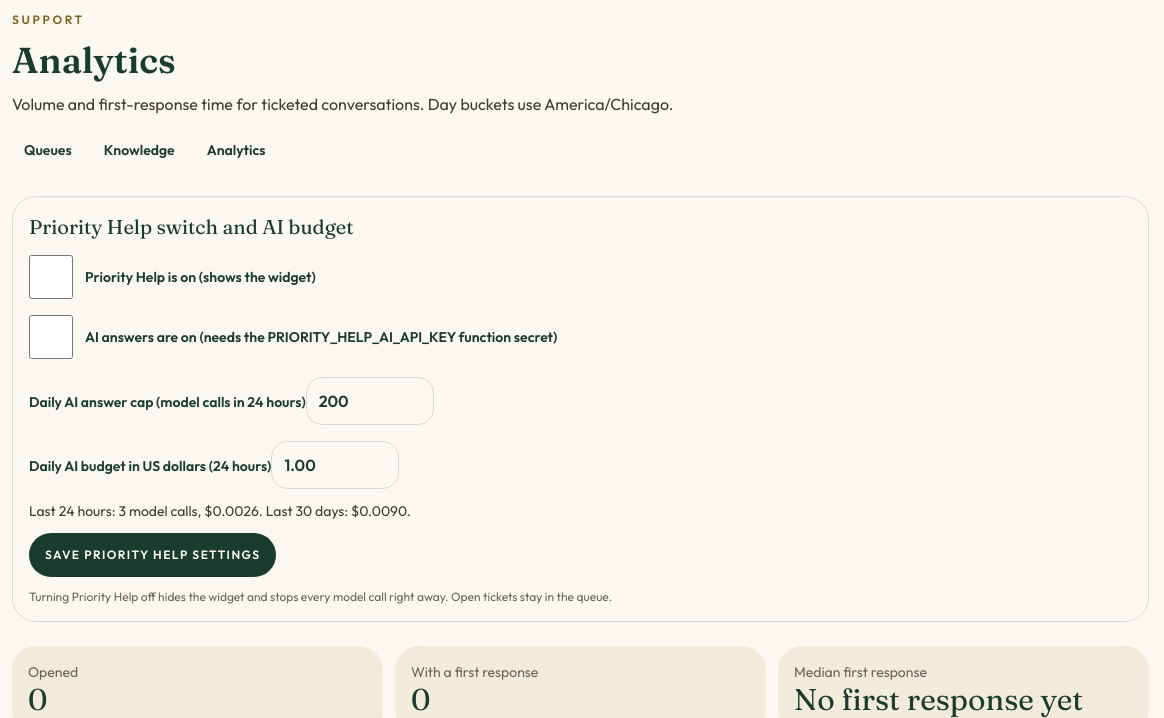
it: admin support pages › shows Priority Help off by default and saves the flags, cap, and dollar budget
Expected: the checkbox labelled "AI answers are on" is not checked, [29,315,73,359]
Expected: the text "3 model calls, $0.0026" is shown, [29,502,411,520]
Click the checkbox labelled "Priority Help is on (shows the widget)": (51, 277) [29,255,73,299]
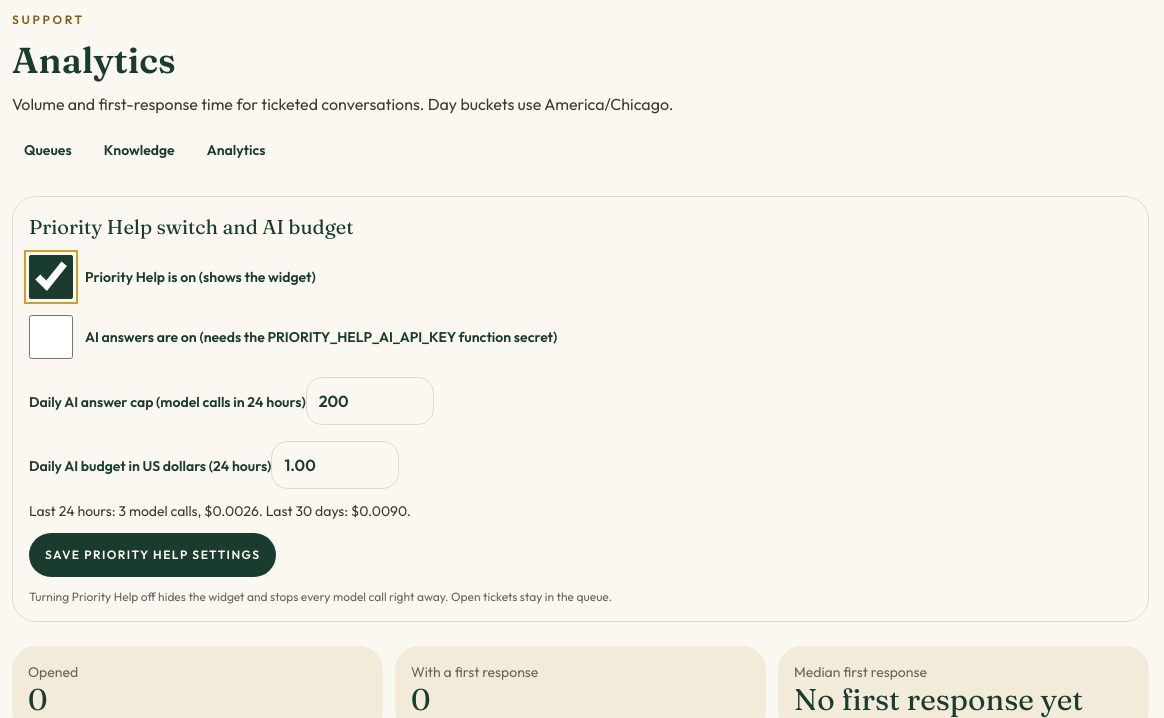
Replace the text in the field labelled "Daily AI budget in US dollars (24 hours)" with "2.50": (335, 465) [271,441,399,489]
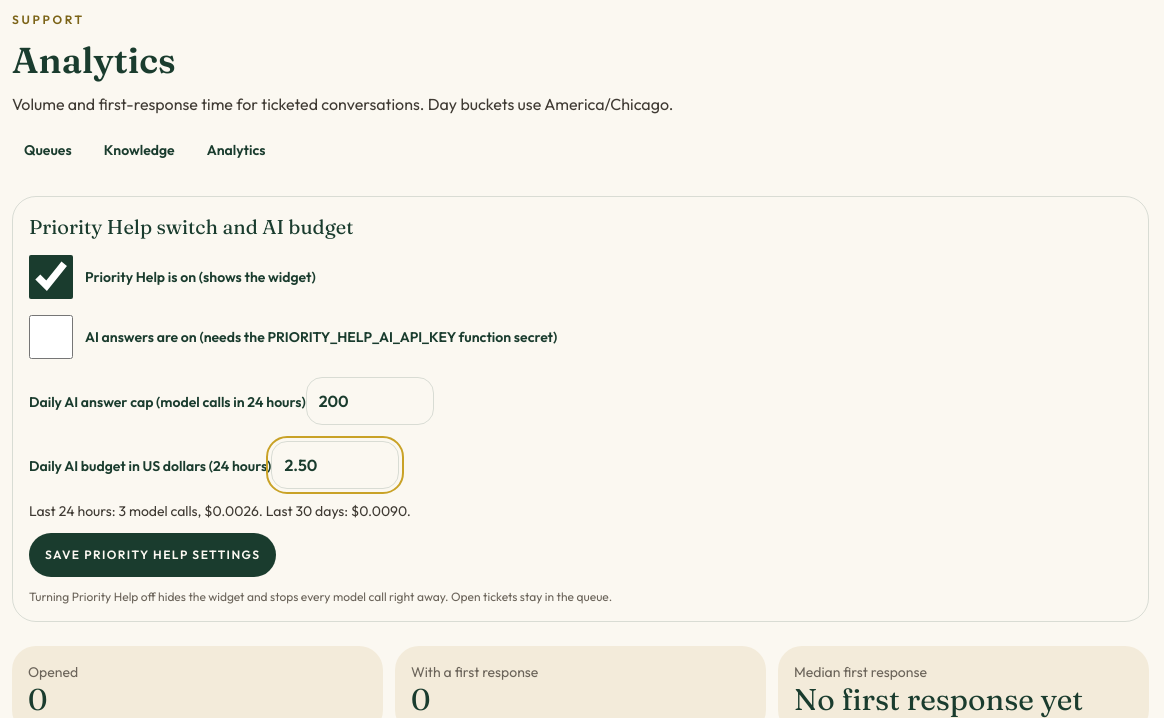
Click the button "Save Priority Help settings": (153, 555) [29,533,276,577]
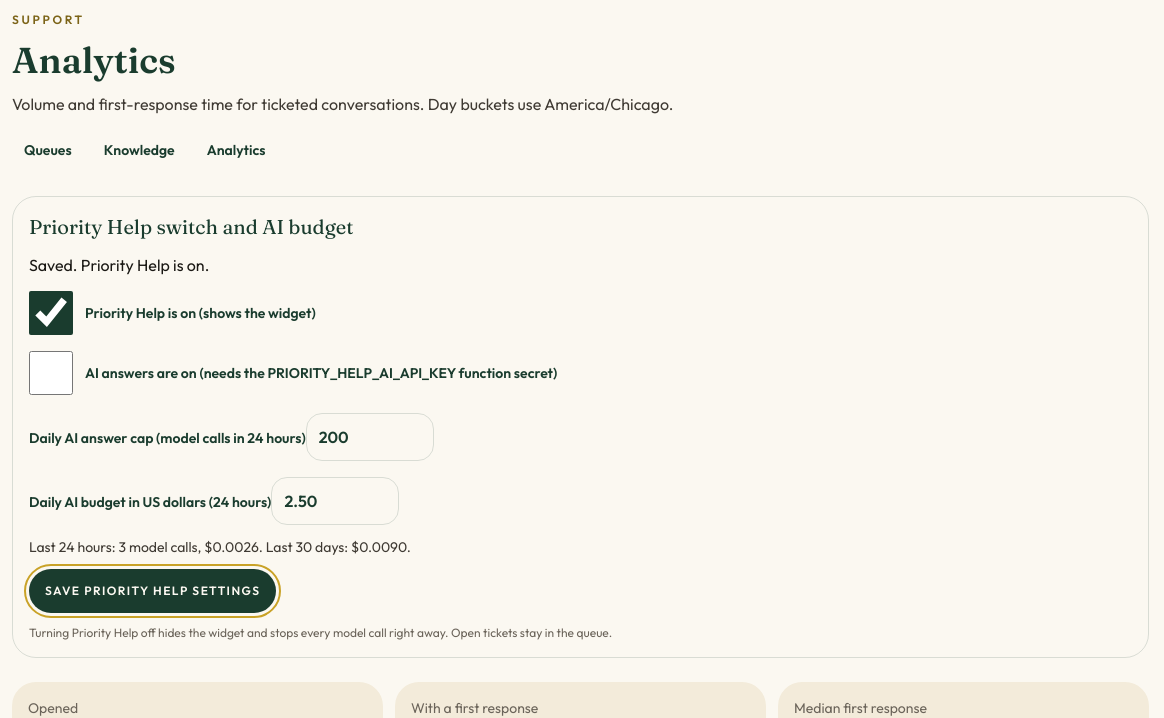
Expected: the text "Saved. Priority Help is on." is shown, [29,255,209,275]
Replace the text in the field labelled "Daily AI budget in US dollars (24 hours)" with "500": (335, 501) [271,477,399,525]
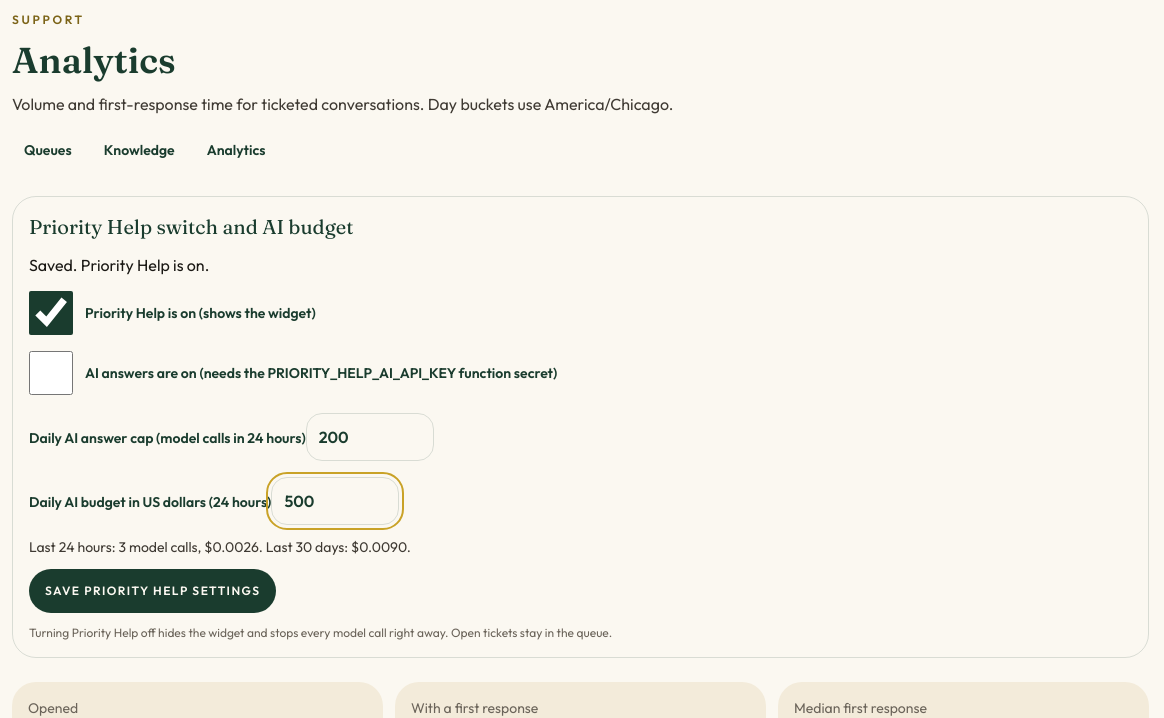
Click the button "Save Priority Help settings": (153, 591) [29,569,276,613]
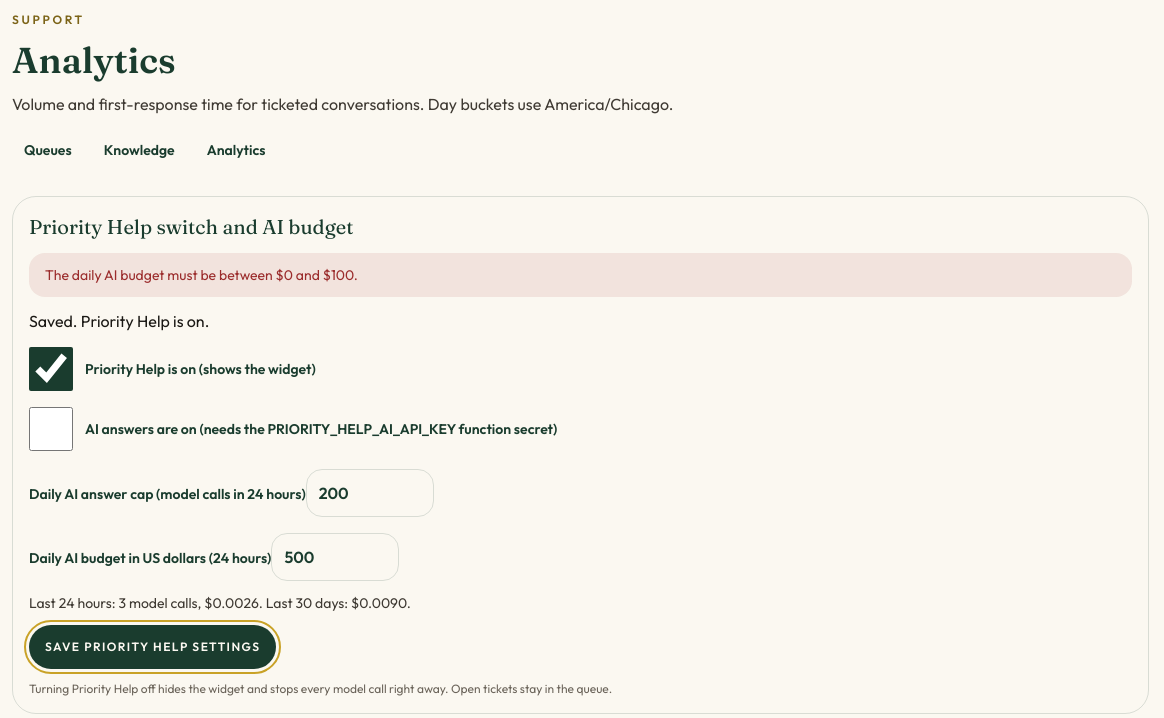
Expected: the text "The daily AI budget must be between $0 and $100." is shown, [29,253,1132,297]
